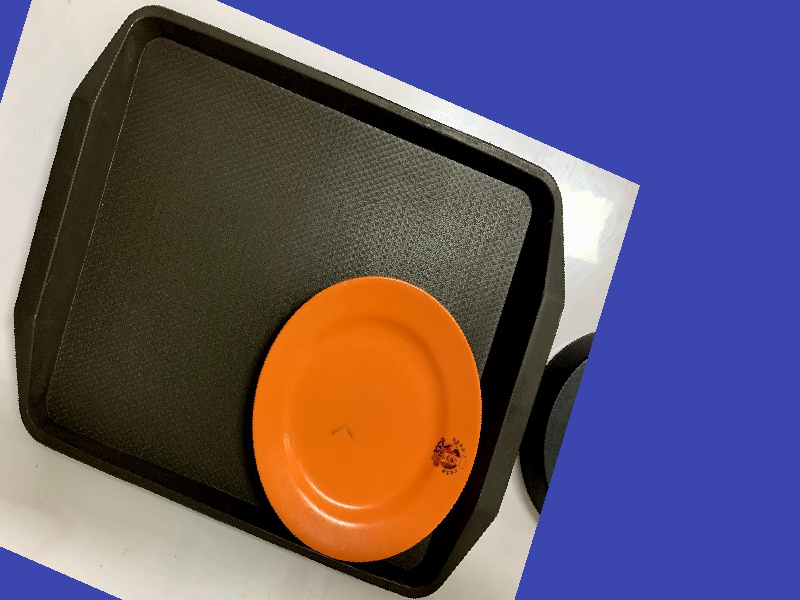dish10: (213, 232, 520, 599)
